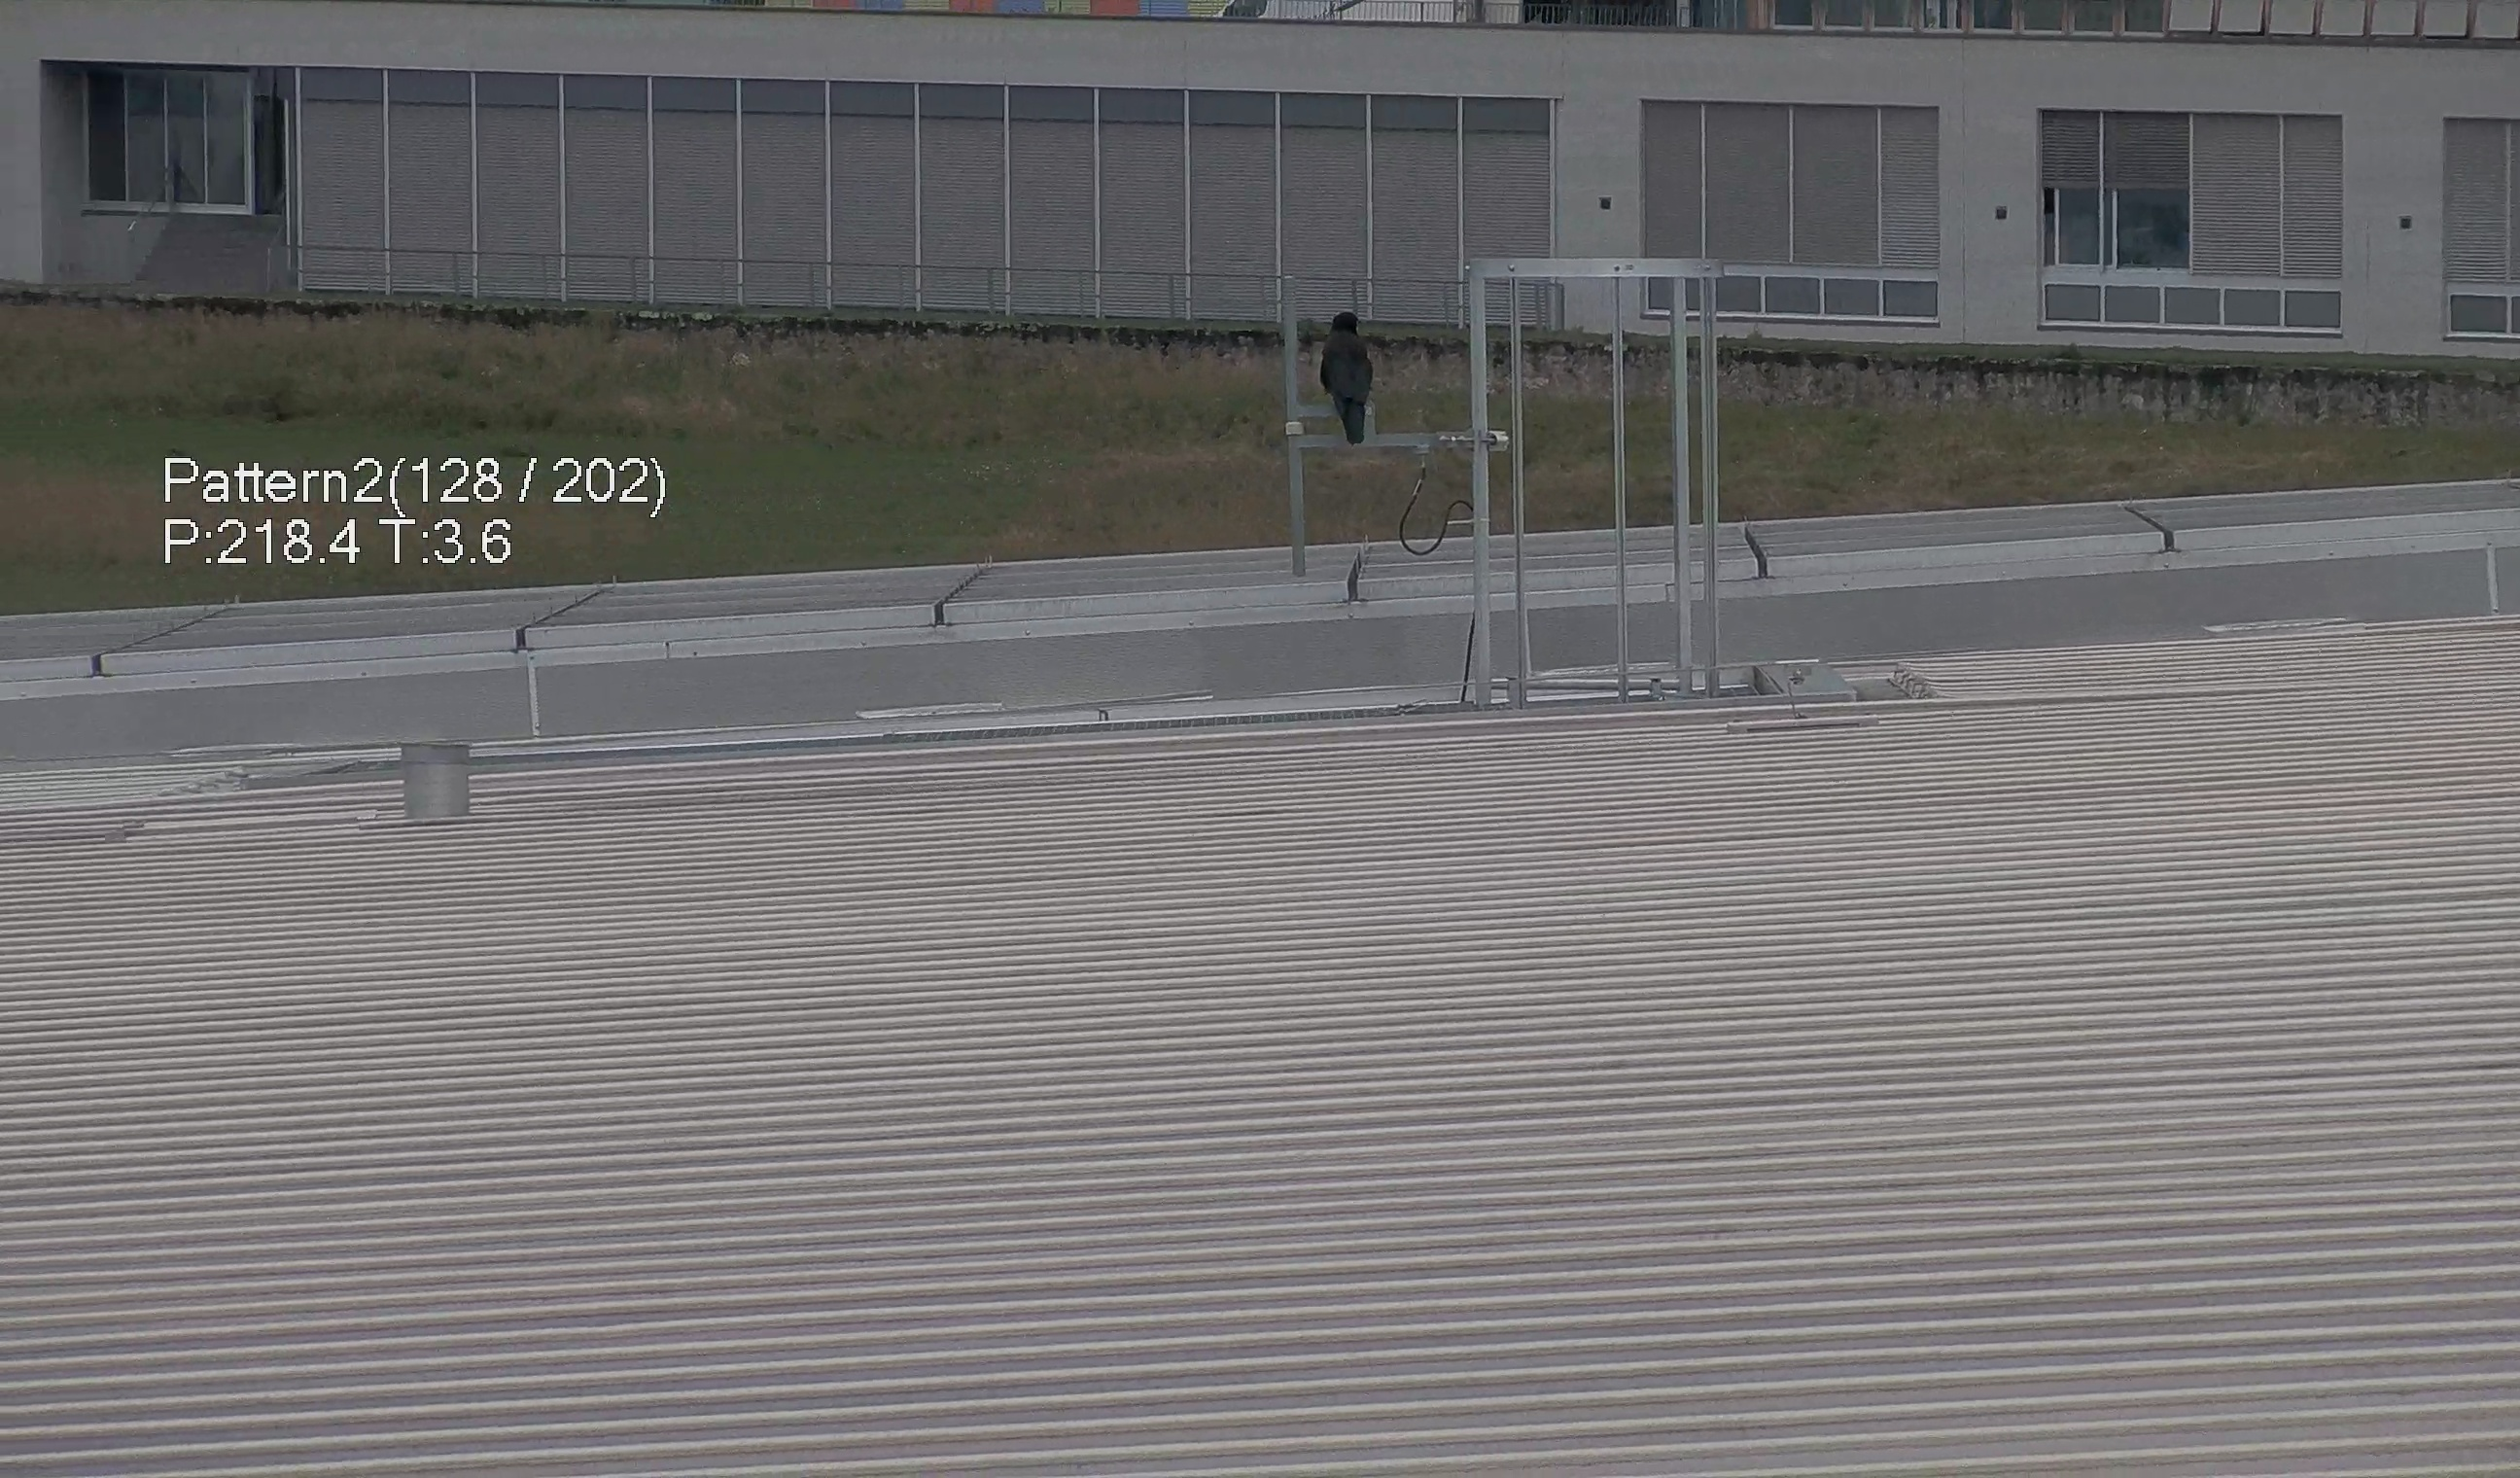Pigeon: (1314, 301, 1380, 445)
